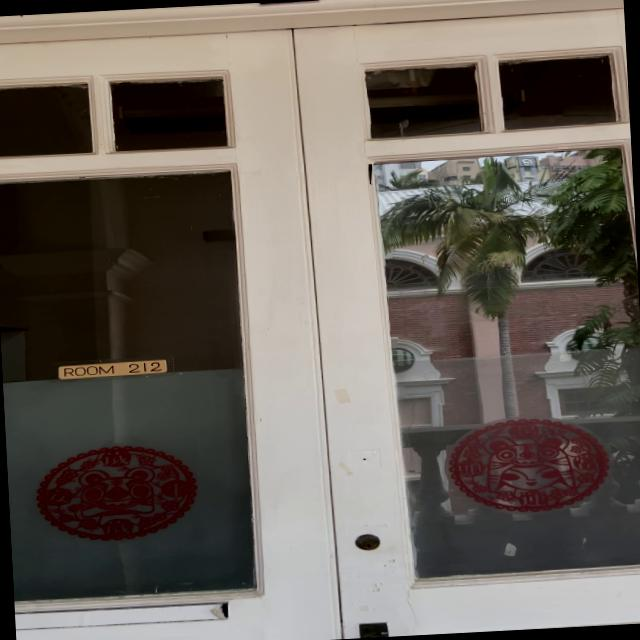room212Window: (46, 351, 174, 384)
